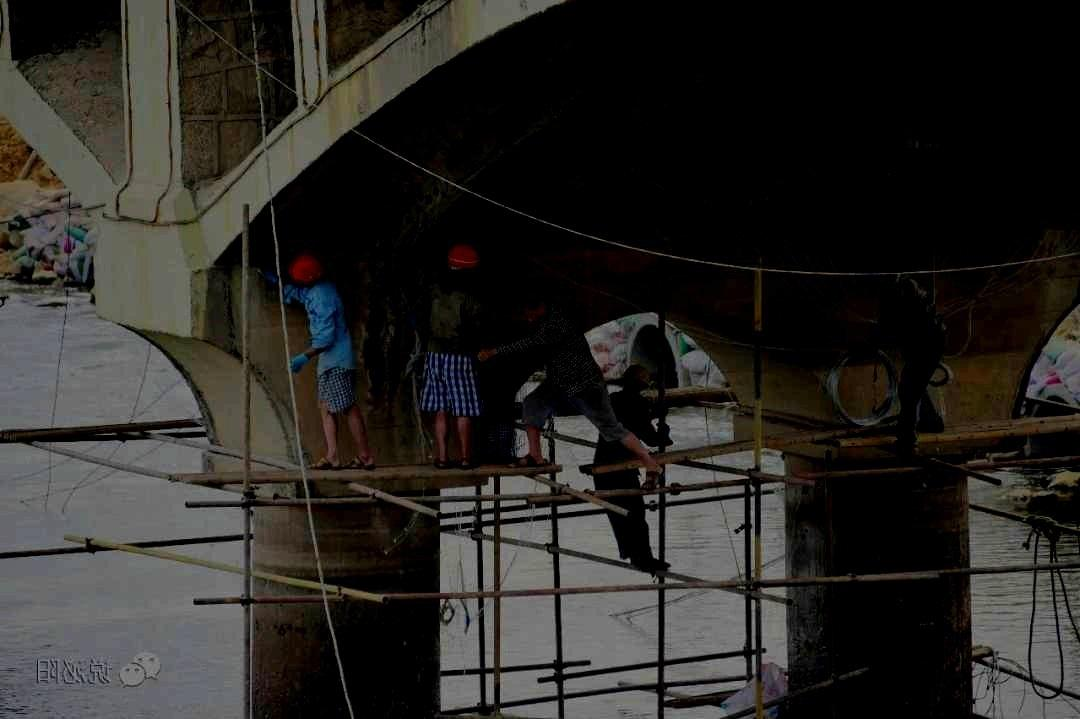helmet: (288, 254, 321, 283), (447, 243, 479, 271), (620, 365, 650, 394)
